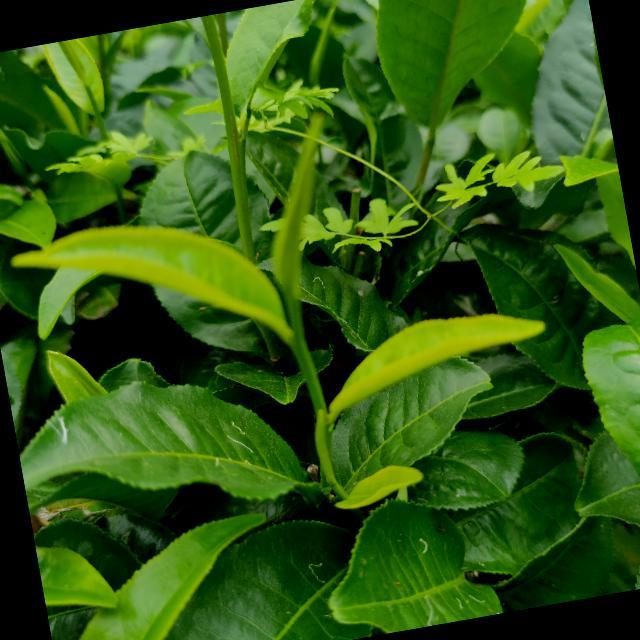Stem: (285, 329, 307, 354)
